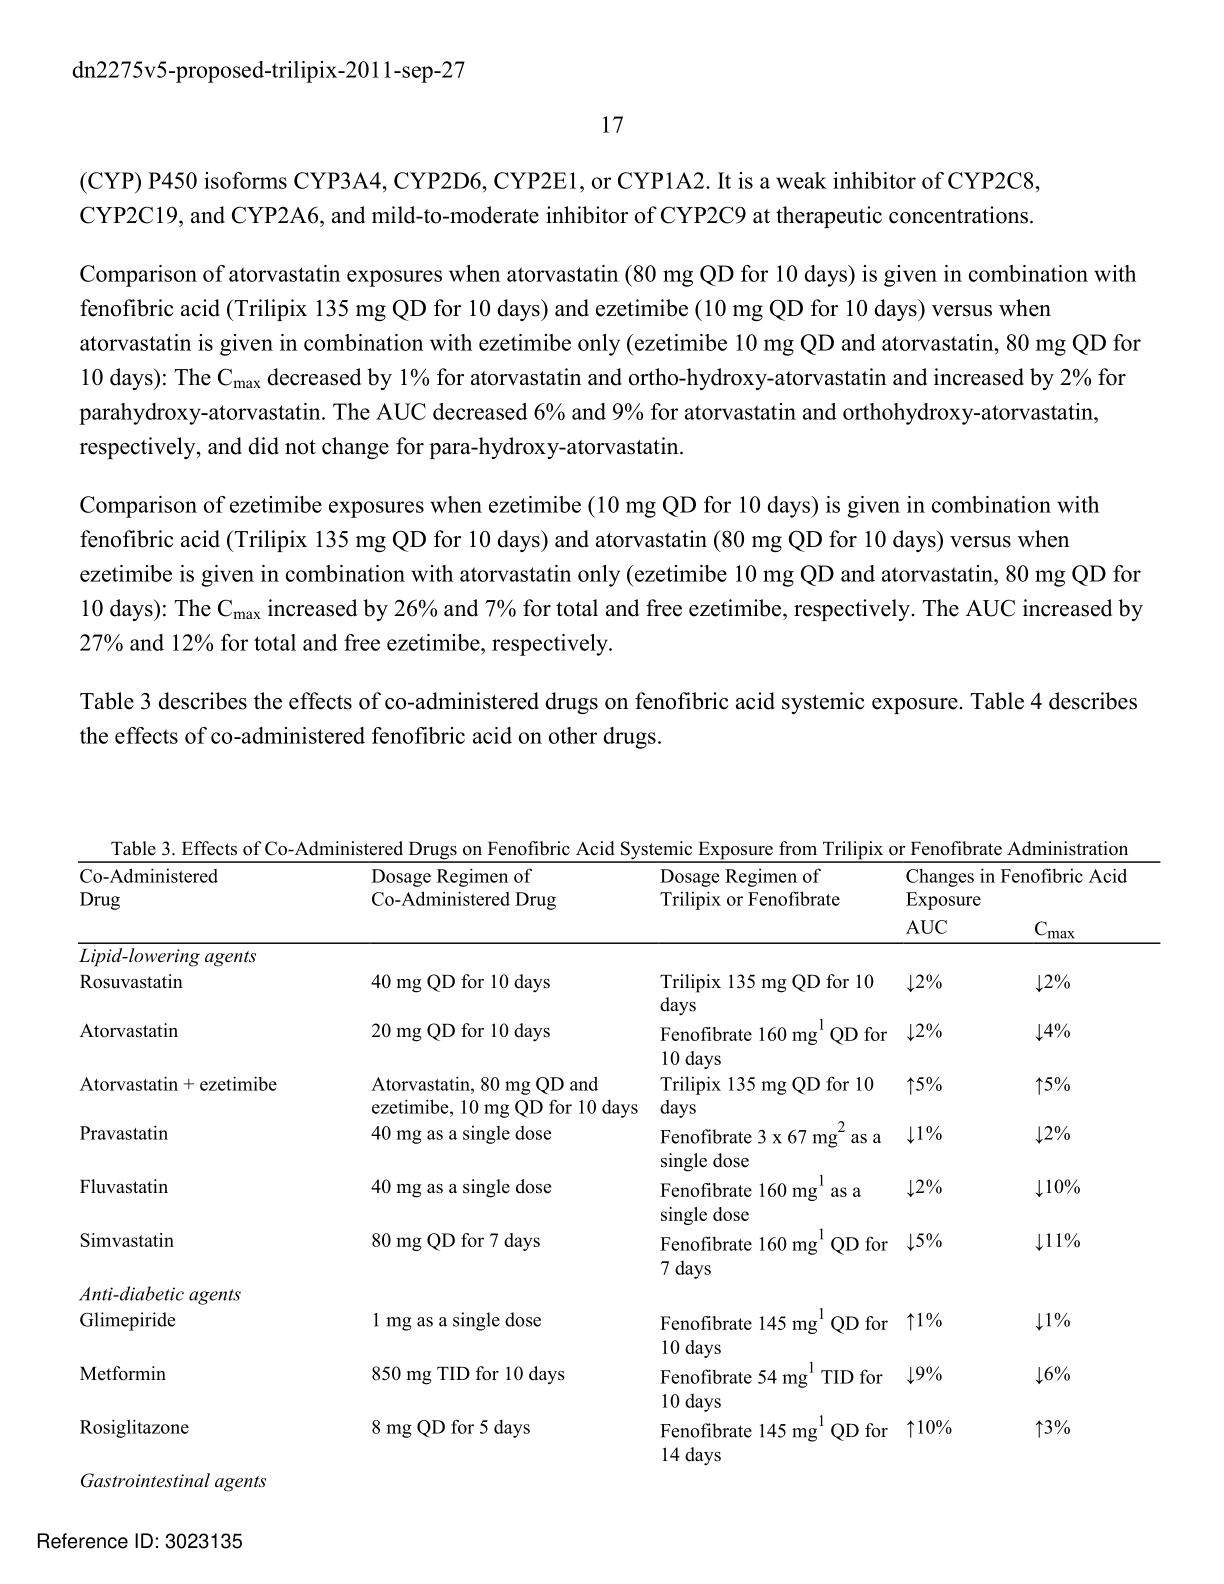partial_lined_merged_cells: (76, 861, 1161, 1490)
